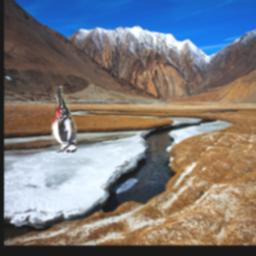Woodpecker: (52, 87, 78, 154)
